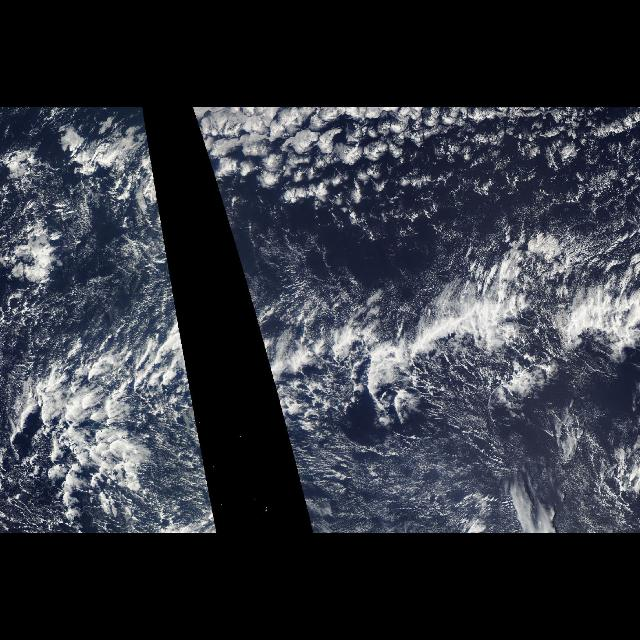Fish: (239, 252, 546, 424), (145, 258, 195, 394)
Flower: (192, 109, 560, 244)
Gravel: (192, 108, 638, 188), (0, 125, 164, 282), (332, 424, 488, 514)
Sugar: (306, 420, 556, 532)
